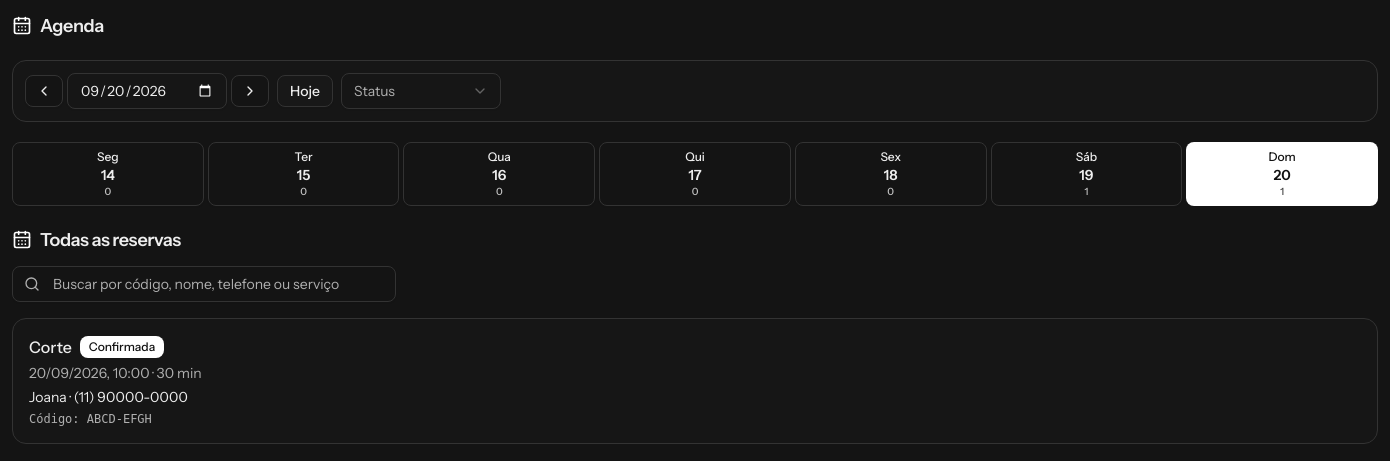
Test case: AgendaView semana › troca de dia dentro da semana sem buscar no servidor
The image size is (1390, 461).
Click the button with aria-label "Sáb 19/09". click: x=1086, y=174
box: [991, 142, 1182, 206]
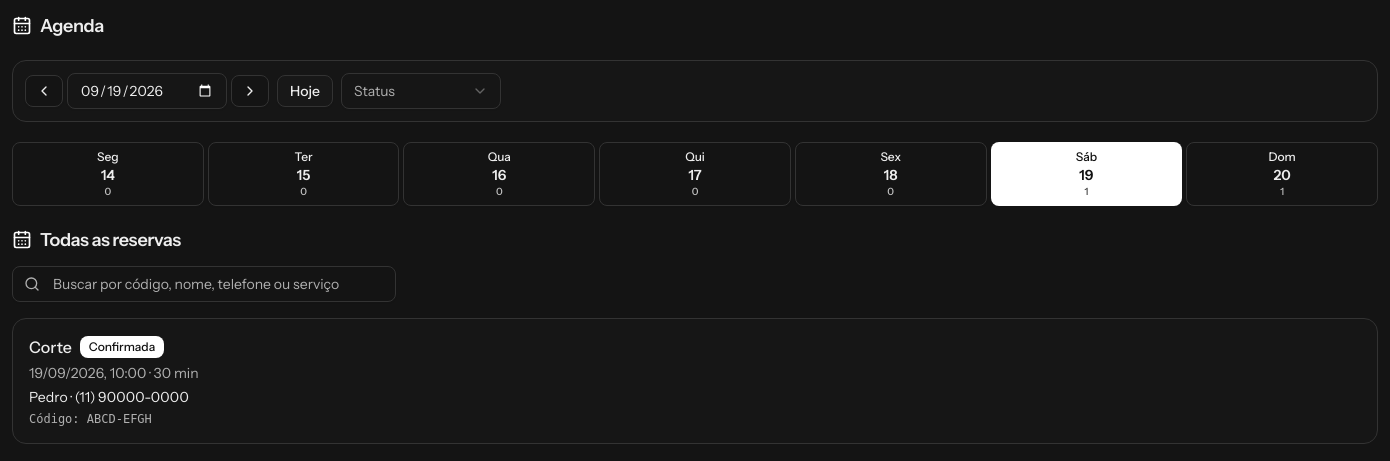
Now the text "Pedro · (11) 90000-0000" is shown, box [29, 387, 199, 407]
Now the text "Joana" is gone
